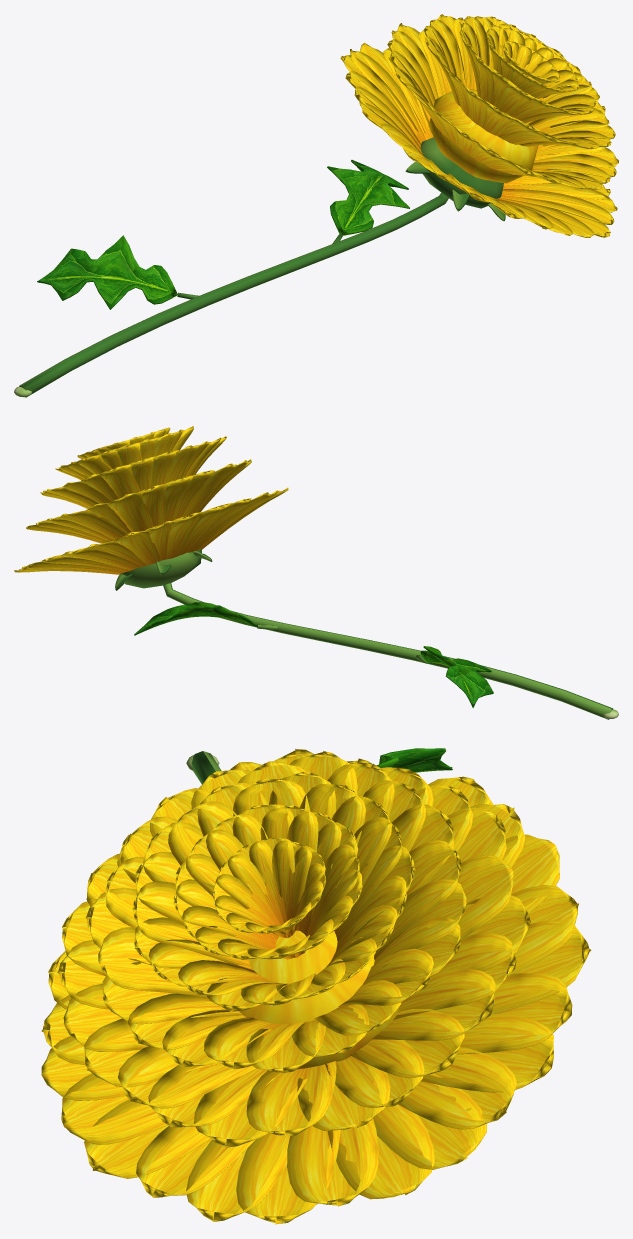
Rendered from NP_Chrysanthemum_Harvest.fbx.
3 renders of one model, top to bottom at view 1: azimuth 30°, elevation 25°; view 2: azimuth 150°, elevation 25°; view 3: azimuth 270°, elevation 25°, orthographic. The views are drawn at different scales.
Parts seen in each view (by area): view 1: NP_Chrysanthemum_Harvest; view 2: NP_Chrysanthemum_Harvest; view 3: NP_Chrysanthemum_Harvest.
Part boxes in pixels (x1,y1,x2,y2): NP_Chrysanthemum_Harvest: [14, 14, 618, 397]; NP_Chrysanthemum_Harvest: [14, 426, 618, 719]; NP_Chrysanthemum_Harvest: [41, 748, 591, 1224].
Size of the model in its own units: 60.75 by 21.54 by 26.33.
